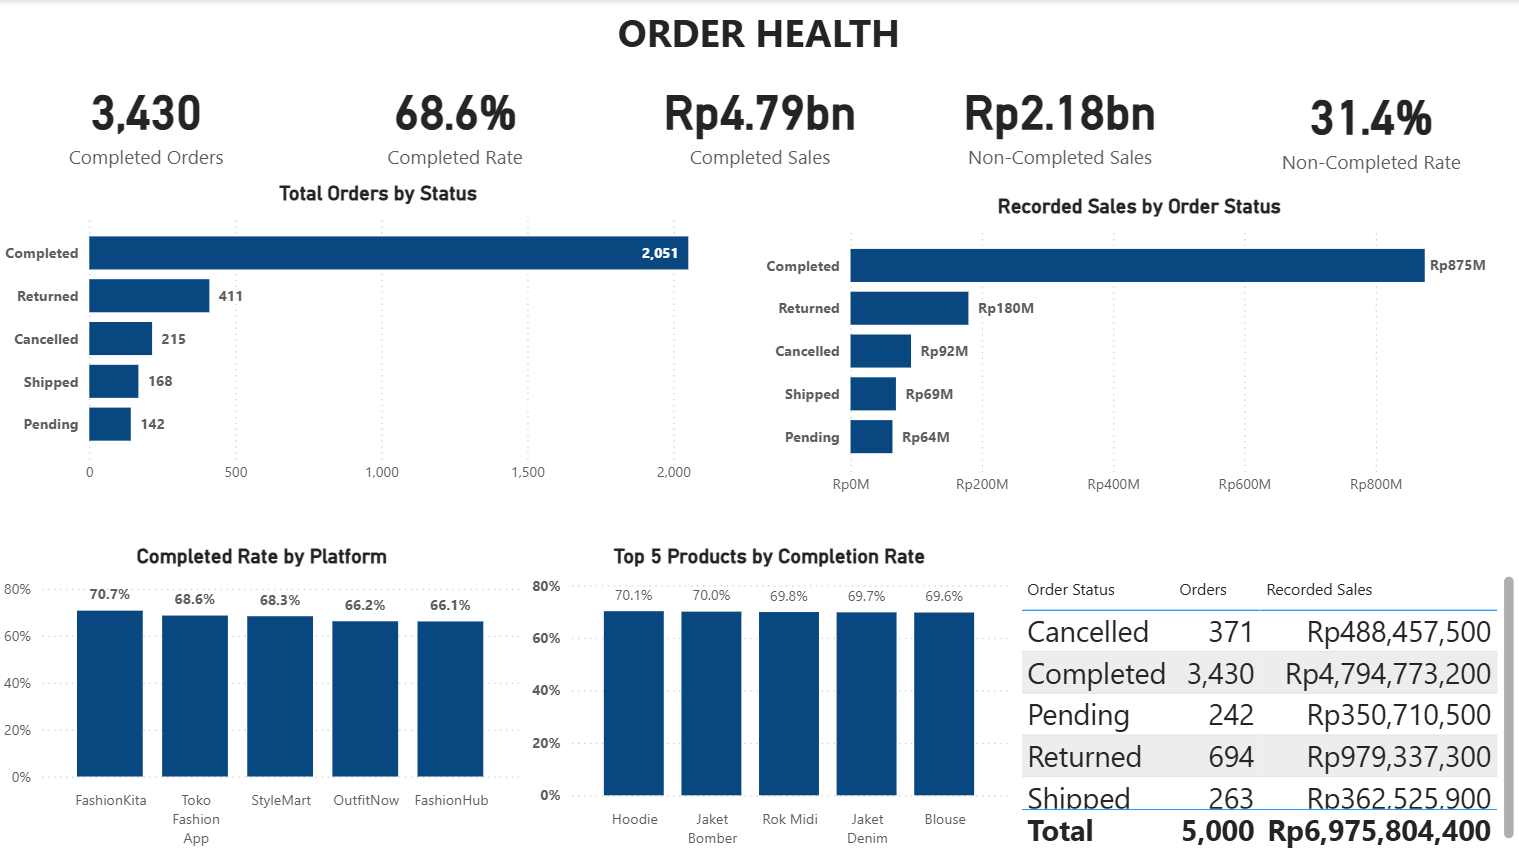

The page's visual inventory and layout, read from the dashboard file:
{"tool":"powerbi","page":{"name":"04_Order Health","canvas":[1280,720],"ordinal":4},"visuals":[{"type":"textbox","box":[0,0,1280.2,54.7],"z":0},{"type":"card","fields":{"Values":["_Measures.Completed Orders"]},"box":[0,50,250,102.3],"z":1000},{"type":"clusteredBarChart","title":"Total Orders by Status","fields":{"Category":["fashion_sales_clean.Order Status"],"Y":["_Measures.Orders"]},"box":[0,152.3,639.5,262.8],"z":2000},{"type":"clusteredBarChart","fields":{"Category":["fashion_sales_clean.Order Status"],"Y":["_Measures.Recorded Sales"]},"box":[640.7,162.8,639.5,262.8],"z":3000},{"type":"clusteredColumnChart","fields":{"Category":["fashion_sales_clean.Platform"],"Y":["_Measures.Completed Rate"]},"box":[0,457,444,263],"z":4000},{"type":"clusteredColumnChart","title":"Top 5 Products by Completion Rate","fields":{"Category":["fashion_sales_clean.Product Name"],"Y":["_Measures.Completed Rate"]},"box":[444.2,457,410.5,262.8],"z":5000},{"type":"tableEx","fields":{"Values":["fashion_sales_clean.Order Status","_Measures.Orders","_Measures.Recorded Sales"]},"box":[854.7,479.1,425.6,240.7],"z":6000},{"type":"card","fields":{"Values":["_Measures.Completed Rate"]},"box":[259.3,50,250,102.3],"z":7000},{"type":"card","fields":{"Values":["_Measures.Completed Sales"]},"box":[516.3,50,250,102.3],"z":8000},{"type":"card","fields":{"Values":["_Measures.Non-Completed Sales"]},"box":[768.6,50,250,102.3],"z":9000},{"type":"card","fields":{"Values":["_Measures.Non-Completed Rate"]},"box":[1030.2,54.7,250,102.3],"z":10000}]}

Visuals, with their boxes in screenshot pixels (x1, y1, x2, y2), scaled from the page's 1280x720 canvas onto the 1519x855 screenshot:
textbox: select_region(0, 0, 1518, 65)
card - _Measures.Completed Orders: select_region(0, 59, 297, 181)
"Total Orders by Status" clusteredBarChart: select_region(0, 181, 759, 493)
clusteredBarChart - fashion_sales_clean.Order Status x _Measures.Recorded Sales: select_region(760, 193, 1518, 505)
clusteredColumnChart - fashion_sales_clean.Platform x _Measures.Completed Rate: select_region(0, 543, 527, 854)
"Top 5 Products by Completion Rate" clusteredColumnChart: select_region(527, 543, 1014, 854)
tableEx - fashion_sales_clean.Order Status x _Measures.Orders: select_region(1014, 569, 1518, 854)
card - _Measures.Completed Rate: select_region(308, 59, 604, 181)
card - _Measures.Completed Sales: select_region(613, 59, 909, 181)
card - _Measures.Non-Completed Sales: select_region(912, 59, 1209, 181)
card - _Measures.Non-Completed Rate: select_region(1223, 65, 1518, 186)
